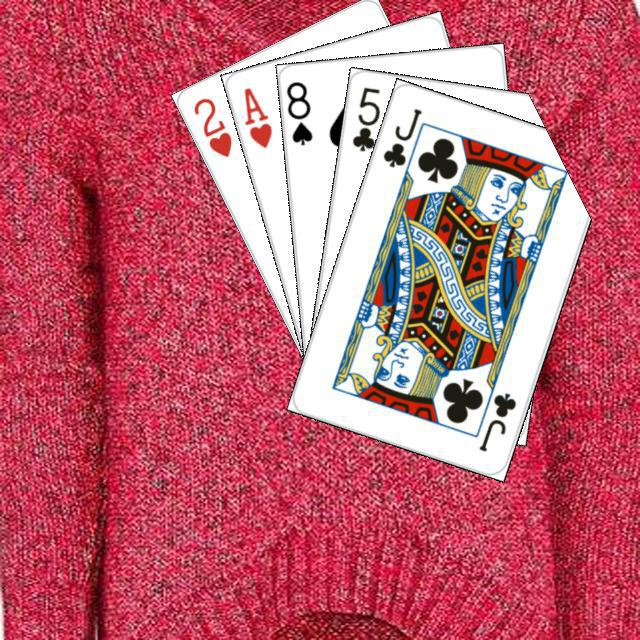2h: (188, 92, 234, 159)
5c: (347, 82, 382, 153)
8s: (282, 77, 314, 147)
Ah: (239, 82, 274, 150)
Jc: (378, 103, 424, 169), (474, 387, 518, 454)
